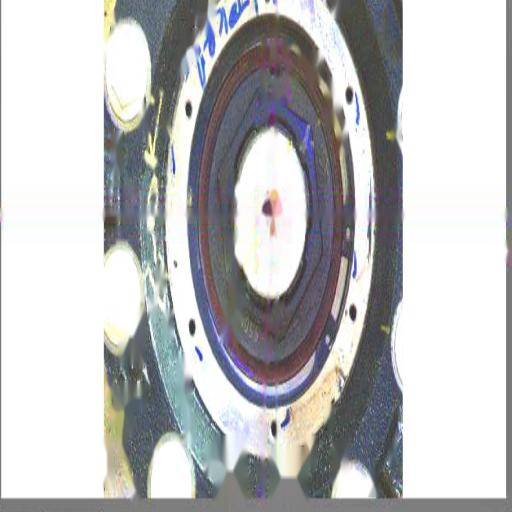center: (260, 198, 278, 224)
notch: (266, 58, 284, 88)
